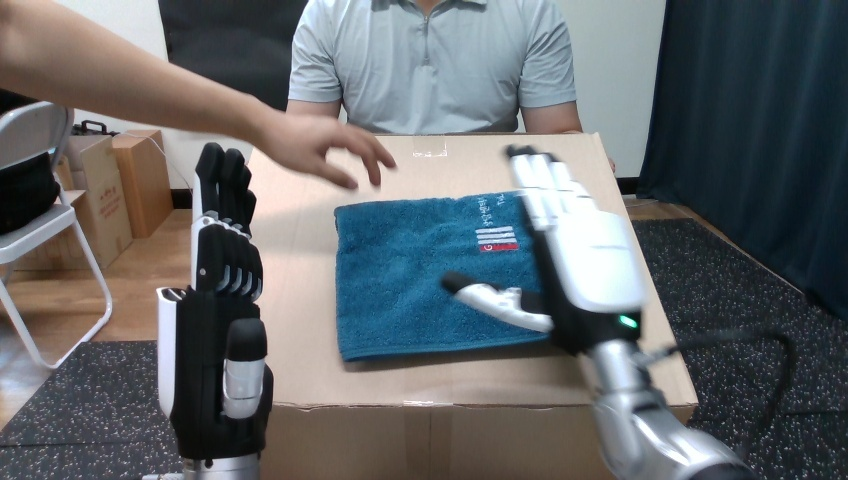left robot hand: (441, 146, 755, 478), (157, 144, 272, 479)
